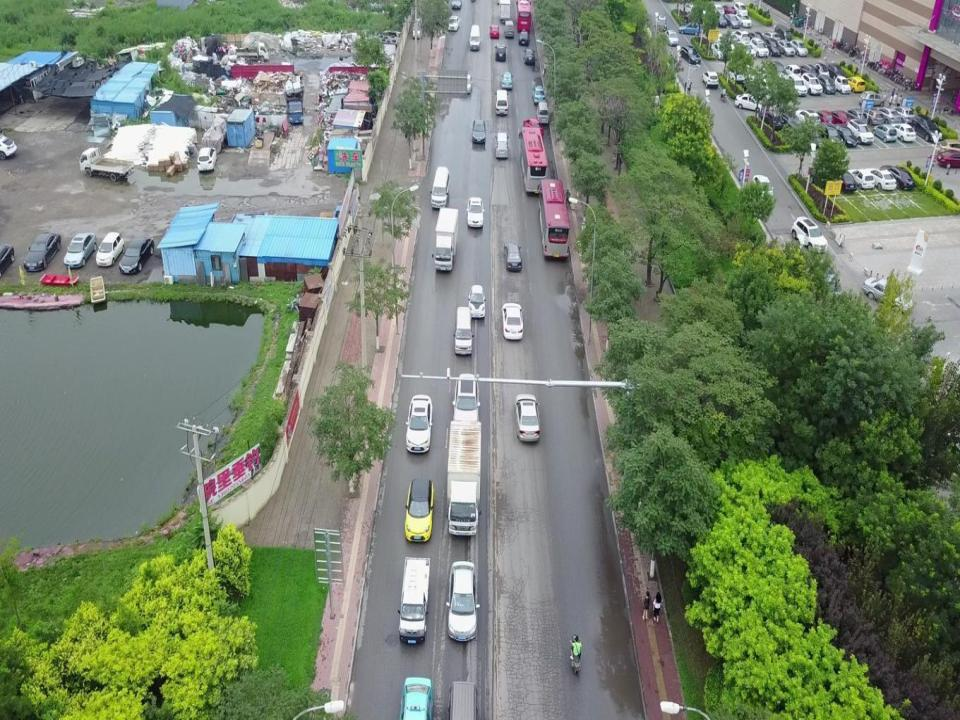bus: (538, 178, 570, 260), (519, 126, 549, 192), (516, 0, 532, 32)
car: (447, 561, 479, 642), (862, 276, 913, 312), (405, 478, 433, 542), (406, 394, 432, 454), (22, 232, 61, 271), (452, 374, 480, 427), (815, 262, 842, 315), (400, 676, 432, 720), (119, 236, 155, 273), (791, 216, 827, 253), (515, 394, 539, 442), (64, 233, 96, 268), (95, 232, 125, 266), (880, 165, 916, 189), (501, 302, 523, 340), (912, 114, 940, 142), (864, 168, 897, 190), (847, 119, 874, 145), (829, 168, 857, 193), (752, 174, 774, 205), (817, 122, 842, 147), (734, 93, 765, 113), (468, 284, 486, 318), (833, 123, 858, 147), (801, 126, 823, 151), (0, 245, 15, 281), (848, 170, 874, 190), (504, 243, 522, 271), (794, 109, 820, 128), (936, 149, 960, 169), (891, 104, 915, 124), (876, 106, 900, 126), (861, 107, 885, 127), (844, 107, 868, 127), (758, 110, 782, 130), (467, 198, 484, 226), (787, 74, 808, 96), (892, 123, 916, 142), (827, 110, 853, 127), (873, 123, 896, 142), (523, 118, 544, 138), (802, 73, 822, 94), (768, 60, 788, 81), (198, 147, 216, 170), (679, 46, 701, 64), (858, 92, 886, 106), (814, 109, 834, 128), (938, 138, 960, 154), (472, 119, 487, 142), (826, 63, 845, 81), (818, 75, 836, 94), (750, 38, 768, 57), (736, 41, 756, 58), (846, 76, 864, 94), (725, 67, 745, 83), (765, 38, 782, 56), (712, 43, 729, 60), (790, 40, 808, 56), (777, 40, 795, 56), (731, 29, 749, 45), (664, 27, 679, 46), (834, 76, 850, 93), (801, 63, 818, 79), (701, 72, 718, 88), (679, 22, 701, 34), (815, 63, 830, 80), (735, 12, 752, 27), (532, 86, 546, 104), (494, 42, 507, 61), (782, 65, 801, 78), (460, 74, 472, 94), (724, 14, 740, 29), (714, 33, 728, 50), (501, 72, 514, 90), (748, 31, 765, 44), (414, 15, 423, 39), (762, 32, 780, 44), (708, 3, 724, 16), (720, 4, 737, 16), (712, 13, 726, 27), (523, 49, 535, 65), (519, 29, 530, 46), (734, 1, 748, 14), (448, 15, 460, 30), (657, 16, 667, 32), (684, 3, 698, 14), (489, 25, 499, 38), (451, 0, 463, 9)
truck: (448, 419, 480, 536), (397, 556, 430, 645), (76, 148, 134, 182), (431, 206, 458, 271), (287, 80, 305, 124), (499, 0, 511, 24)
van: (448, 681, 478, 720), (454, 306, 474, 355), (430, 167, 450, 208), (495, 89, 509, 115), (495, 132, 509, 157), (774, 23, 792, 42), (468, 24, 480, 51), (536, 102, 548, 125), (504, 20, 515, 40)
